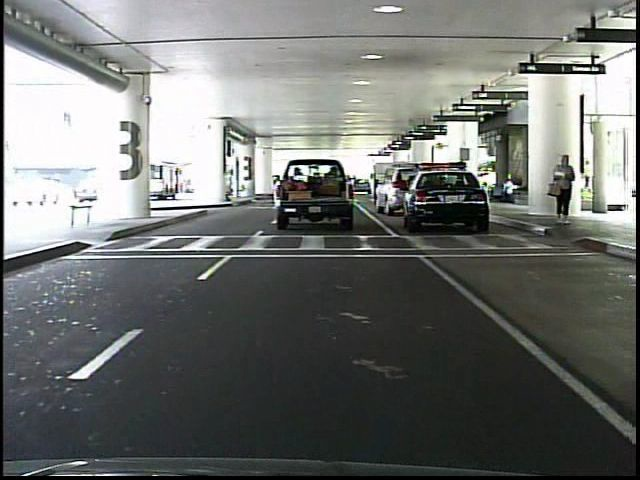person: (549, 148, 579, 229)
